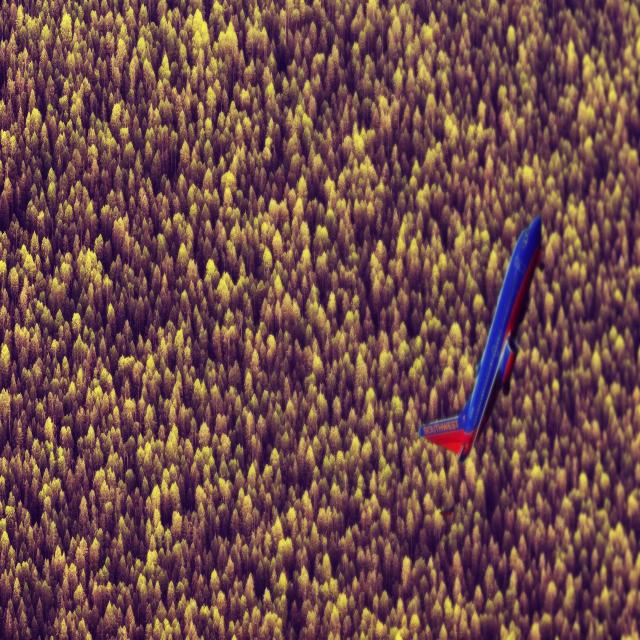airplane: (418, 214, 542, 463)
